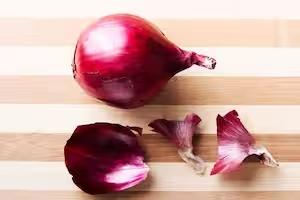organic: (72, 14, 205, 107), (64, 123, 148, 193), (210, 110, 278, 174), (148, 112, 206, 174)
